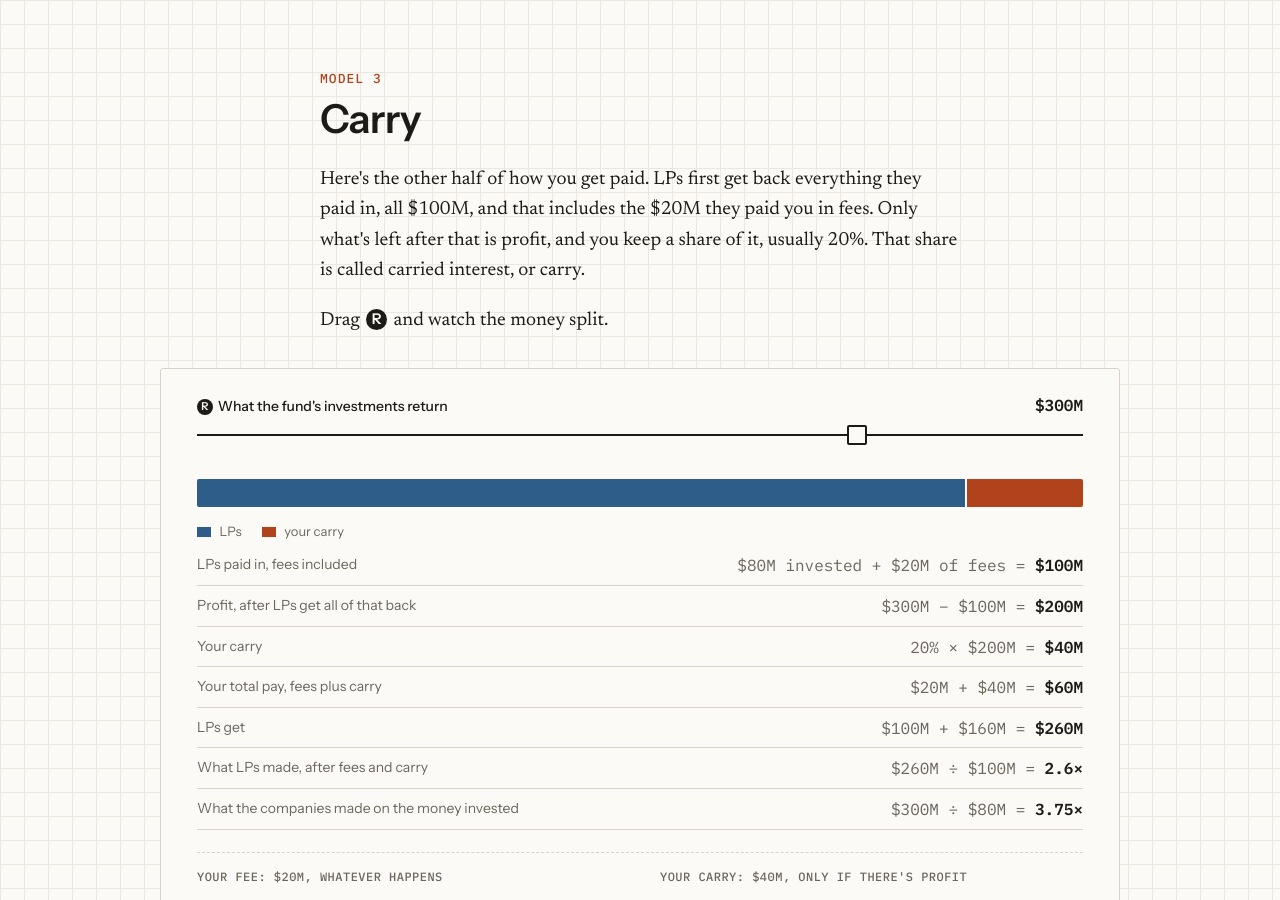
Test: Part two, model 3: carry › pays no carry without a profit
This screenshot has width=1280, height=900.
Set the slider named "R, what the fund's investments return" to "2" at [422, 435], box [197,421,1083,449]
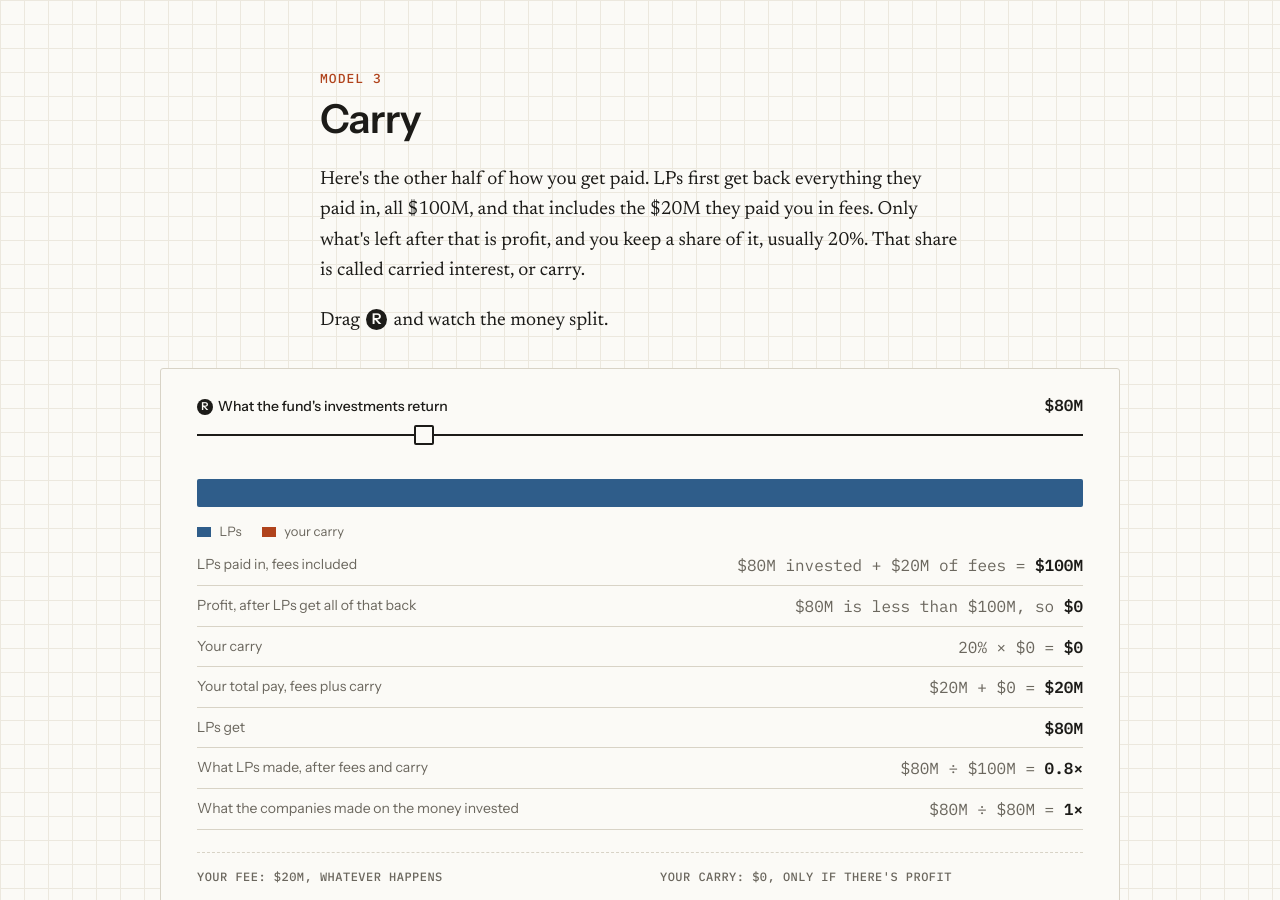
Now the text "$80M" in the row of "What the fund's investments return" is shown, box [1045,395,1083,415]
Now the element with test id "f3-net" reads "$80M ÷ $100M = 0.8×", box [900,758,1083,780]
